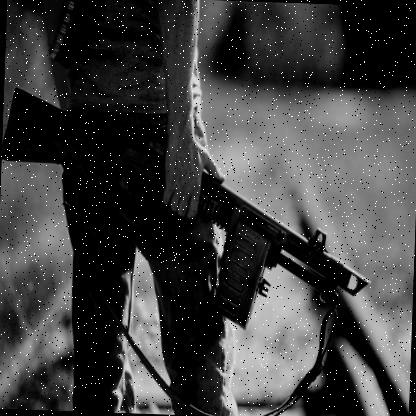rifle: (0, 83, 378, 348)
